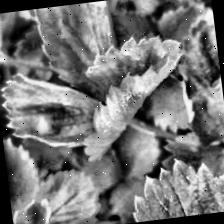Powdery Mildew Leaf: (69, 28, 196, 163), (32, 0, 123, 112), (105, 151, 224, 224)
